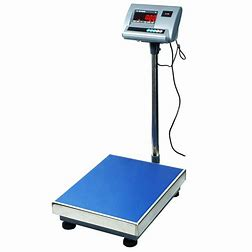Industrial Scale: (50, 2, 187, 248)
